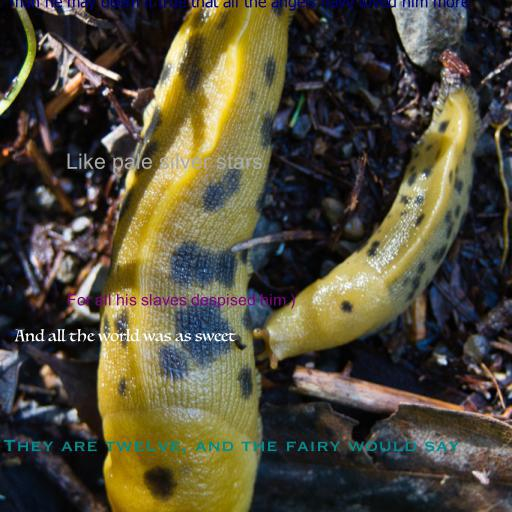Arial: (65, 153, 263, 174), (67, 293, 295, 309)
Copperplate: (2, 439, 460, 455)
Luminari: (14, 328, 236, 342)
Tahoma: (9, 0, 469, 11)
